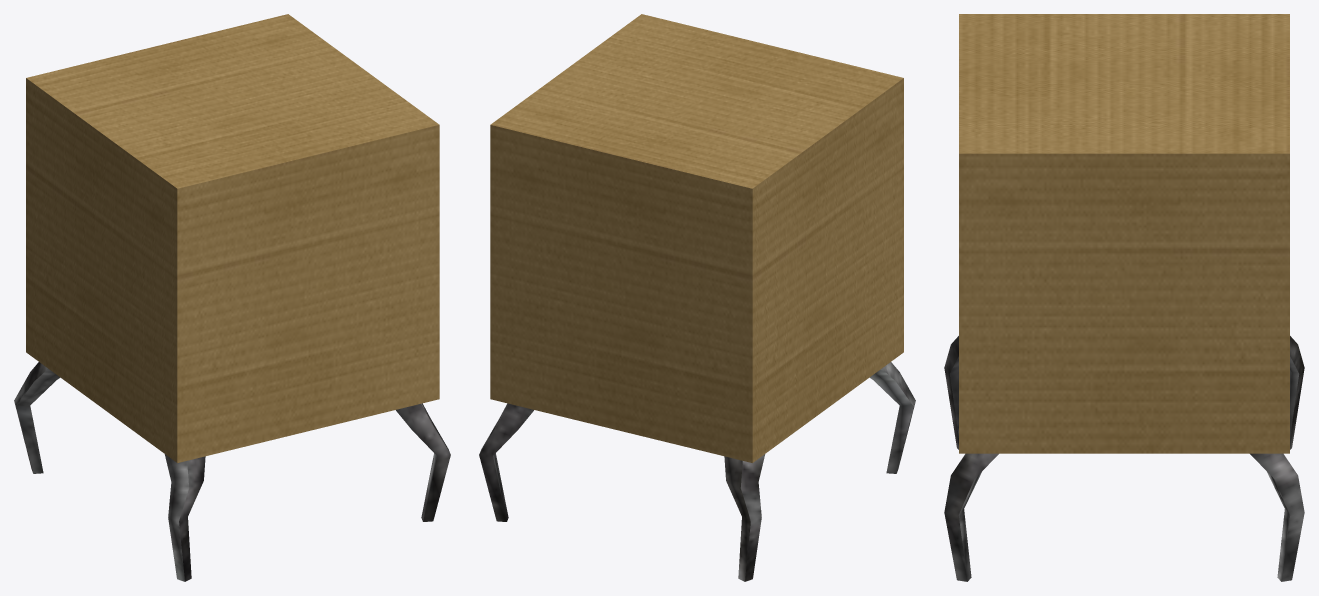
The model's file is BOX_CREATURE.fbx.
3 renders of one model, left to right at view 1: azimuth 30°, elevation 25°; view 2: azimuth 150°, elevation 25°; view 3: azimuth 270°, elevation 25°, orthographic. The views are drawn at different scales.
Visible parts, largest first — view 1: Cube.004, Cube.008, Cube.005, Cube.007; view 2: Cube.004, Cube.007, Cube.006, Cube.008; view 3: Cube.004, Cube.005, Cube.006, Cube.007, Cube.008.
Boxes of the visible parts, x1,y1,x2,y2 form: Cube.004: (26,14,439,462); Cube.008: (164,454,205,581); Cube.005: (396,403,450,521); Cube.007: (14,362,60,473); Cube.004: (490,14,903,462); Cube.007: (724,454,765,581); Cube.006: (479,403,533,521); Cube.008: (869,362,915,473); Cube.004: (959,14,1289,453); Cube.005: (944,453,998,581); Cube.006: (1250,453,1304,581); Cube.007: (1290,336,1304,449); Cube.008: (944,336,958,449).
Size of the model in its own units: 138 by 186 by 141.
